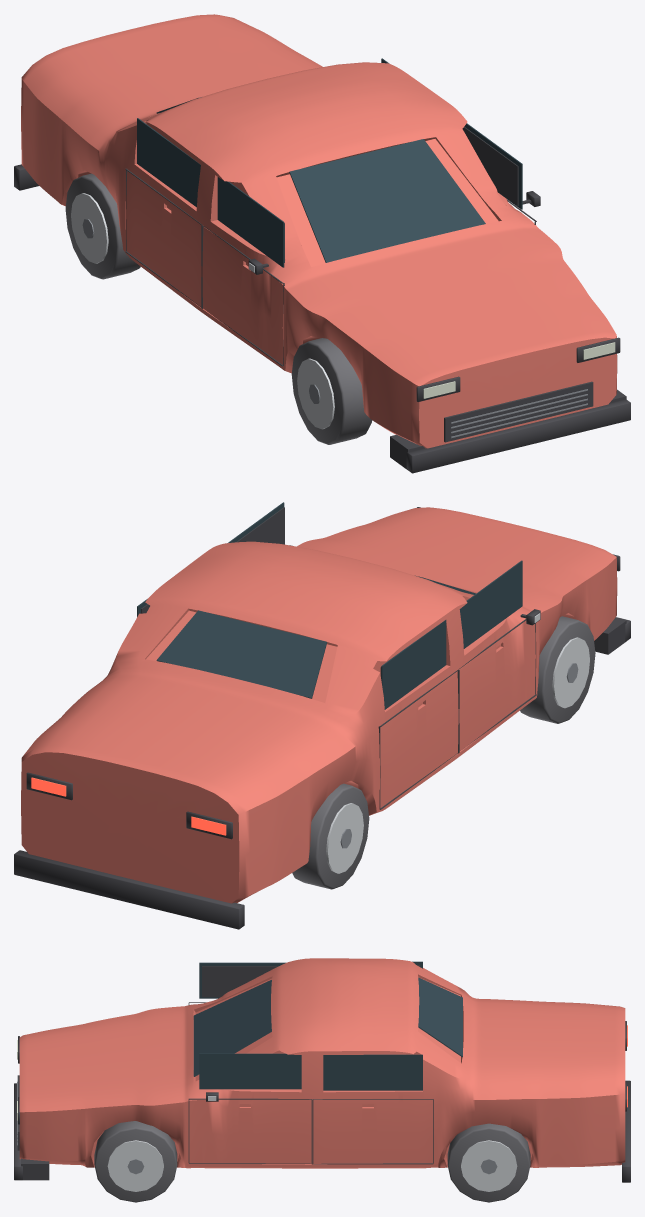
File: Sedan_Compact.fbx
The picture shows the model from 3 angles, top to bottom: view 1: azimuth 30°, elevation 25°; view 2: azimuth 150°, elevation 25°; view 3: azimuth 270°, elevation 25°; orthographic projection. The views are drawn at different scales.
Parts seen in each view (by area): view 1: LOD0; view 2: LOD0; view 3: LOD0.
Boxes of the visible parts, box(x1,y1,x2,y2) form: LOD0: box(14, 14, 630, 473); LOD0: box(14, 502, 630, 929); LOD0: box(14, 958, 630, 1202).
Size of what is drawn, in the model's own units: 200 by 141 by 478.
